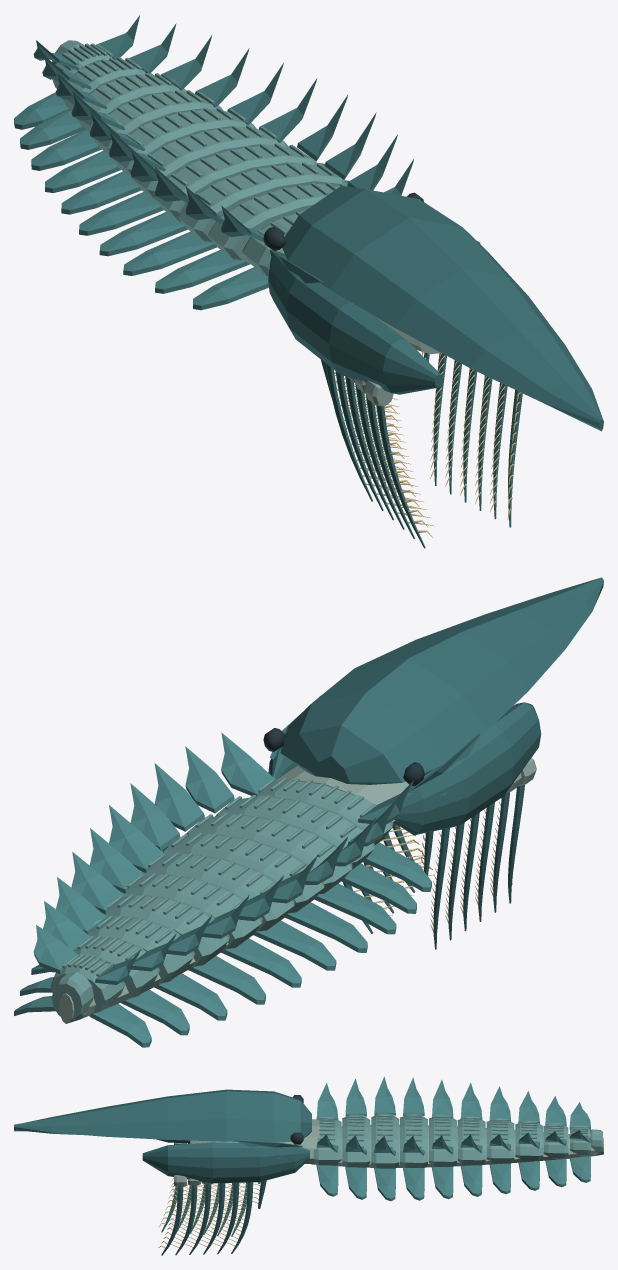
3 views of the same model, one above another, from view 1: azimuth 30°, elevation 25°; view 2: azimuth 150°, elevation 25°; view 3: azimuth 270°, elevation 25° (orthographic). The views are drawn at different scales.
Parts seen in each view (by area): view 1: central-keel-shield, left-oval-lateral-shield, trunk-segment-03, trunk-segment-04, trunk-segment-02, trunk-segment-05, trunk-segment-06, trunk-segment-07, left-ventral-flap-03, left-ventral-flap-02, left-ventral-flap-04, left-ventral-flap-05 (+35 smaller); view 2: central-keel-shield, left-oval-lateral-shield, trunk-segment-03, trunk-segment-04, trunk-segment-05, trunk-segment-02, trunk-segment-06, trunk-segment-07, trunk-segment-08, trunk-segment-01, right-dorsal-flap-02, right-dorsal-flap-03 (+46 smaller); view 3: central-keel-shield, right-oval-lateral-shield, trunk-segment-03, trunk-segment-02, trunk-segment-04, right-representative-filter-setae, trunk-segment-05, trunk-segment-06, trunk-segment-07, continuous-ventral-trunk-core, trunk-segment-01, trunk-segment-08 (+37 smaller).
Boxes of the visible parts, bbox=[...] form: central-keel-shield: bbox=[270, 185, 603, 431]; left-oval-lateral-shield: bbox=[268, 252, 443, 394]; trunk-segment-03: bbox=[178, 163, 347, 242]; trunk-segment-04: bbox=[153, 144, 317, 221]; trunk-segment-02: bbox=[208, 183, 339, 260]; trunk-segment-05: bbox=[131, 126, 289, 200]; trunk-segment-06: bbox=[112, 109, 256, 176]; trunk-segment-07: bbox=[93, 91, 222, 154]; left-ventral-flap-03: bbox=[123, 231, 216, 275]; left-ventral-flap-02: bbox=[155, 250, 250, 293]; left-ventral-flap-04: bbox=[99, 212, 187, 256]; left-ventral-flap-05: bbox=[79, 192, 163, 235]; central-keel-shield: bbox=[270, 577, 603, 795]; left-oval-lateral-shield: bbox=[394, 702, 541, 835]; trunk-segment-03: bbox=[186, 814, 352, 894]; trunk-segment-04: bbox=[163, 833, 324, 913]; trunk-segment-05: bbox=[141, 854, 294, 931]; trunk-segment-02: bbox=[215, 796, 374, 869]; trunk-segment-06: bbox=[120, 874, 262, 949]; trunk-segment-07: bbox=[102, 895, 229, 966]; trunk-segment-08: bbox=[88, 916, 194, 983]; trunk-segment-01: bbox=[251, 779, 392, 845]; right-dorsal-flap-02: bbox=[185, 746, 234, 813]; right-dorsal-flap-03: bbox=[154, 763, 204, 831]; central-keel-shield: bbox=[14, 1089, 311, 1159]; right-oval-lateral-shield: bbox=[142, 1142, 309, 1183]; trunk-segment-03: bbox=[371, 1115, 399, 1168]; trunk-segment-02: bbox=[342, 1116, 370, 1167]; trunk-segment-04: bbox=[400, 1115, 427, 1167]; right-representative-filter-setae: bbox=[158, 1182, 260, 1248]; trunk-segment-05: bbox=[429, 1117, 456, 1166]; trunk-segment-06: bbox=[457, 1118, 485, 1165]; trunk-segment-07: bbox=[486, 1120, 514, 1163]; continuous-ventral-trunk-core: bbox=[312, 1124, 603, 1167]; trunk-segment-01: bbox=[313, 1119, 341, 1165]; trunk-segment-08: bbox=[515, 1122, 543, 1161].
Size of the model in its own units: 0.6178 by 0.6081 by 2.11.
